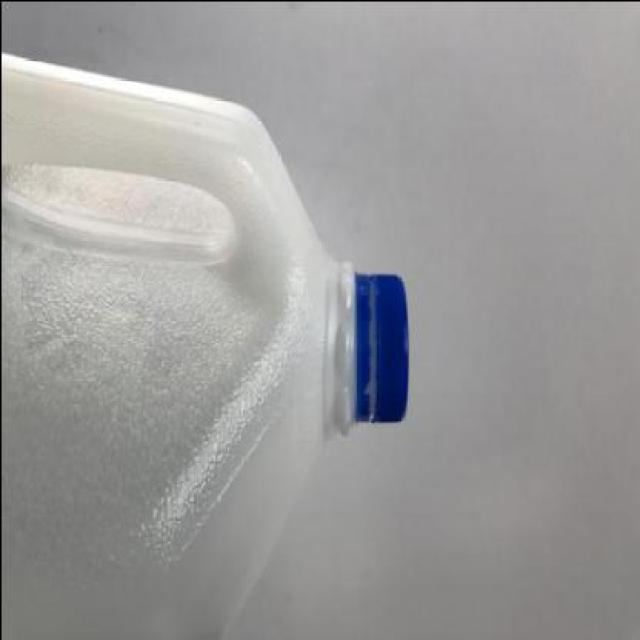PLASTIC: (1, 47, 408, 638), (354, 265, 409, 427)
